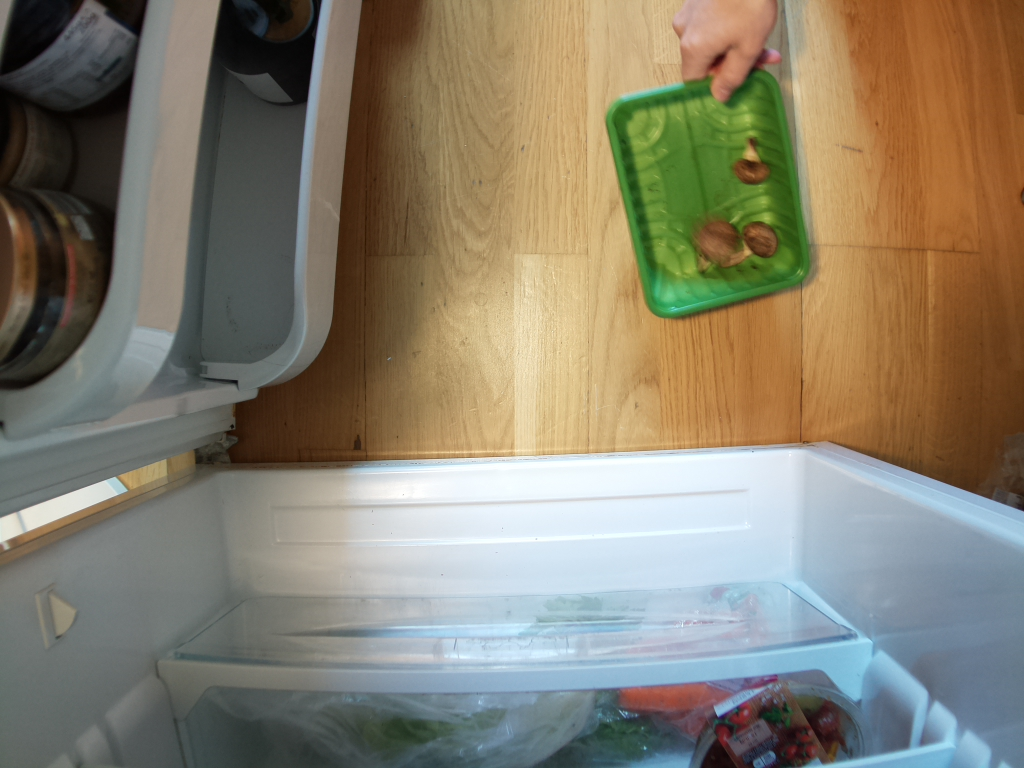mushrooms-bad: (599, 74, 815, 323)
